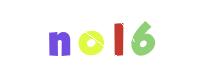6: (79, 0, 159, 80)
L: (78, 0, 158, 80)
N: (19, 0, 99, 80)
O: (65, 0, 145, 80)
